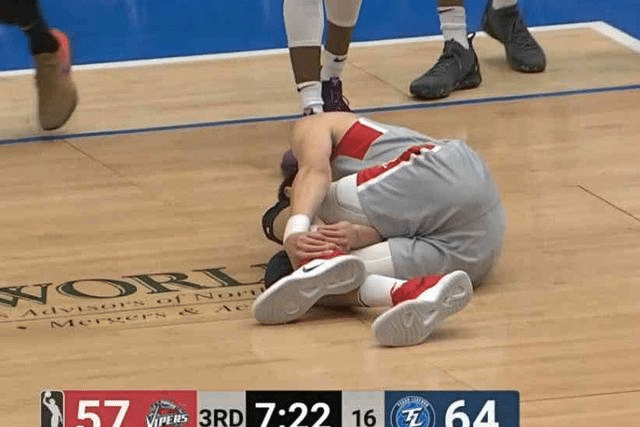fall: (241, 102, 511, 355)
